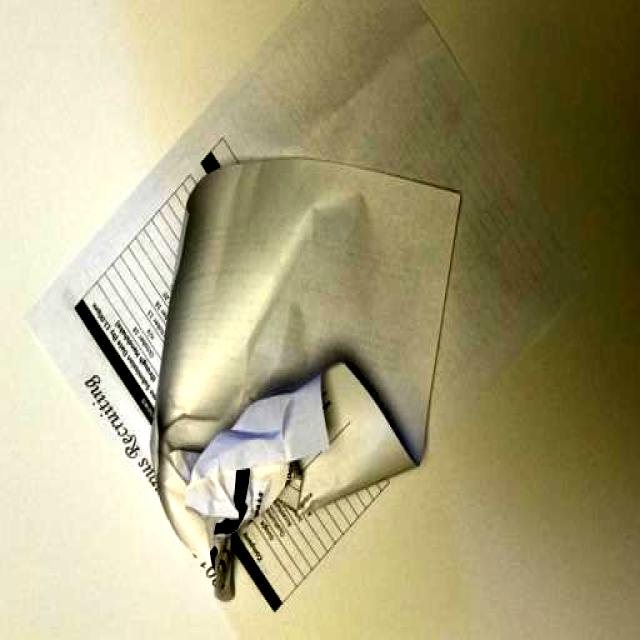Paper: (19, 0, 593, 617)
